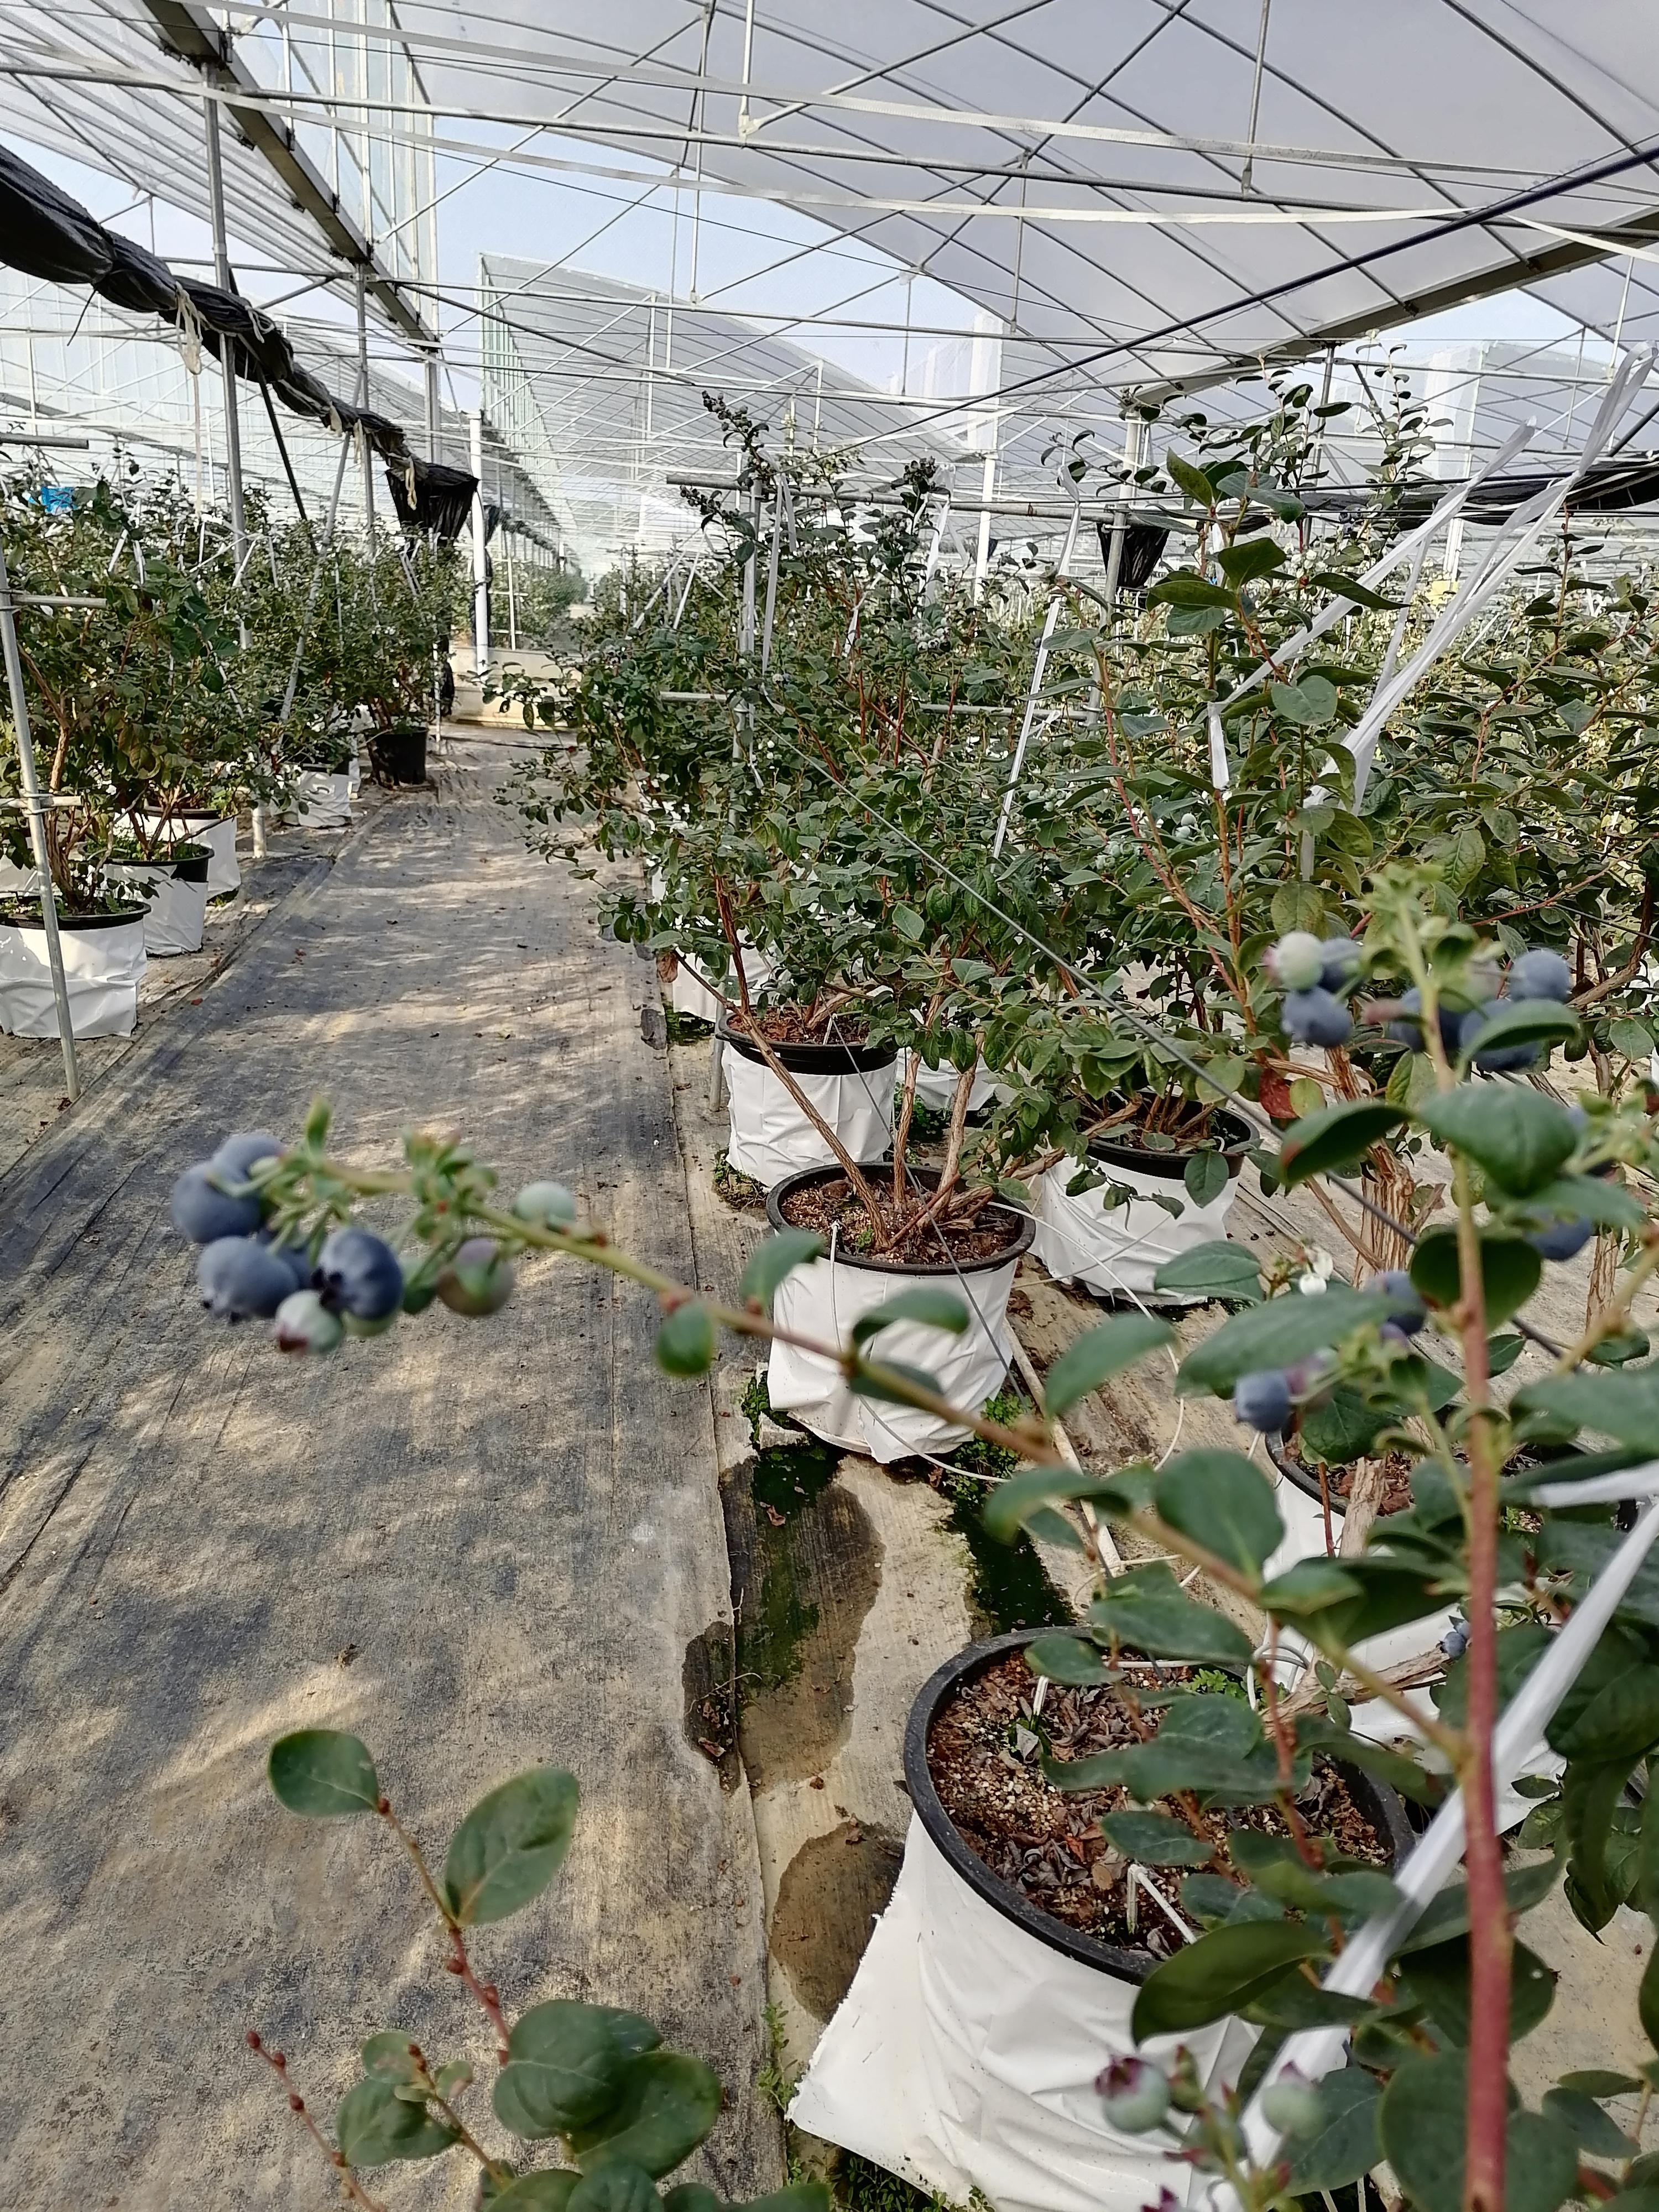ripe-blueberries: (312, 1224, 403, 1320), (199, 1237, 298, 1324), (171, 1160, 261, 1244), (209, 1129, 289, 1219), (1460, 998, 1544, 1073), (1281, 986, 1354, 1050), (1394, 989, 1459, 1052), (1236, 1371, 1291, 1435), (1511, 948, 1570, 1007), (1373, 1271, 1427, 1336), (1525, 1211, 1593, 1259), (1324, 939, 1363, 995), (1438, 1632, 1466, 1662), (1338, 510, 1352, 523), (1344, 523, 1354, 535)
